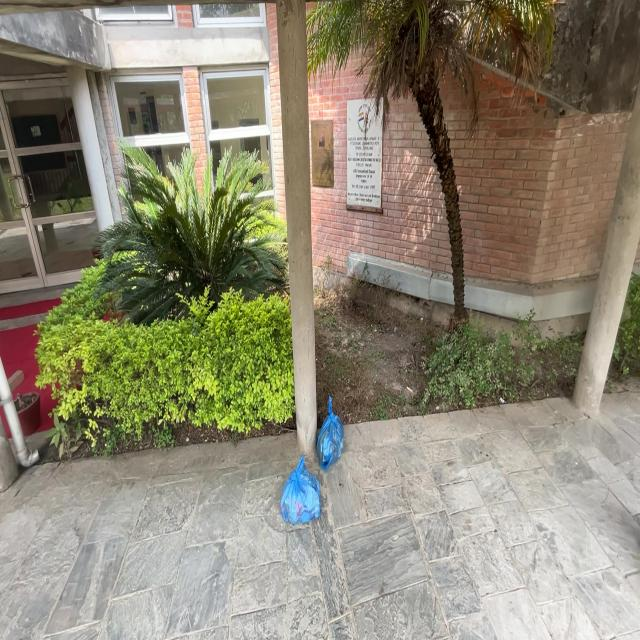garbage: (272, 466, 324, 542), (311, 410, 351, 483)
